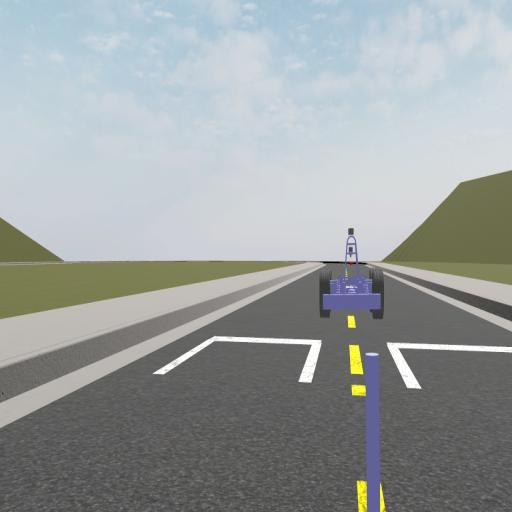ERP-42: (318, 228, 384, 318)
